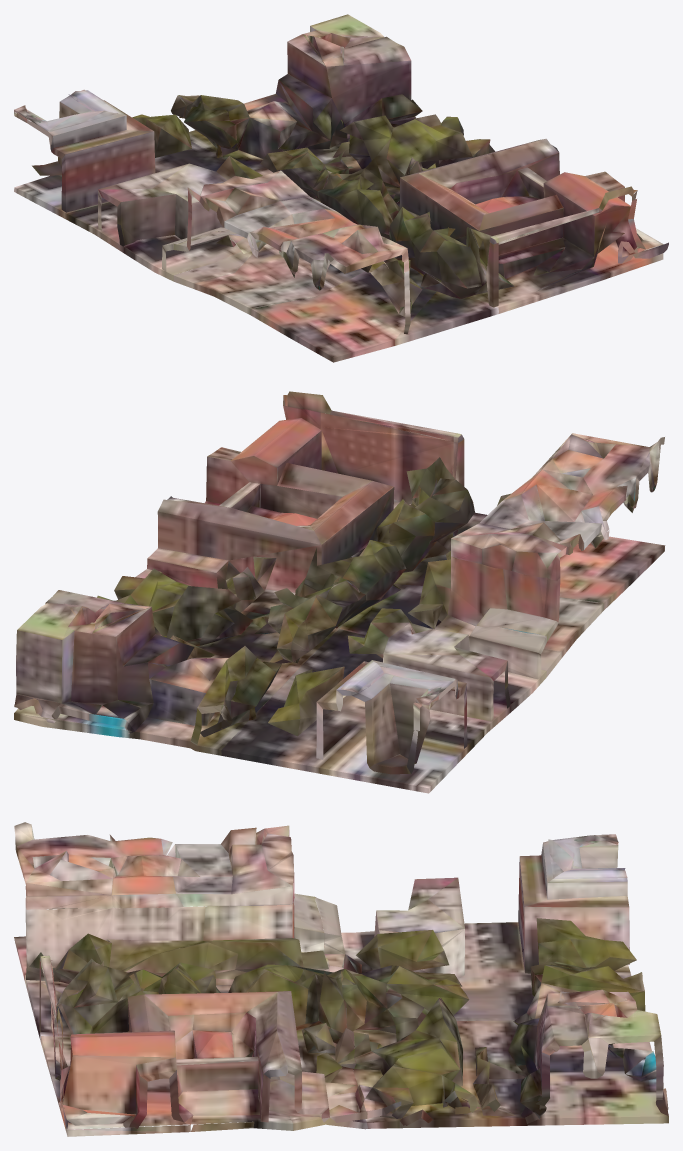
3 views of the same model, one above another, from view 1: azimuth 30°, elevation 25°; view 2: azimuth 150°, elevation 25°; view 3: azimuth 270°, elevation 25° (orthographic). The views are drawn at different scales.
Parts seen in each view (by area): view 1: Mesh_0; view 2: Mesh_0; view 3: Mesh_0.
Boxes of the visible parts, bbox=[...] form: Mesh_0: bbox=[14, 14, 668, 362]; Mesh_0: bbox=[14, 391, 665, 793]; Mesh_0: bbox=[14, 822, 668, 1136].
Size of the model in its own units: 135 by 38.3 by 165.
1 material, 1 textured.
